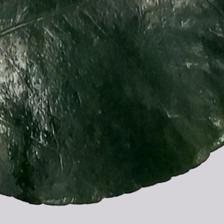healthy: (1, 2, 224, 186)
